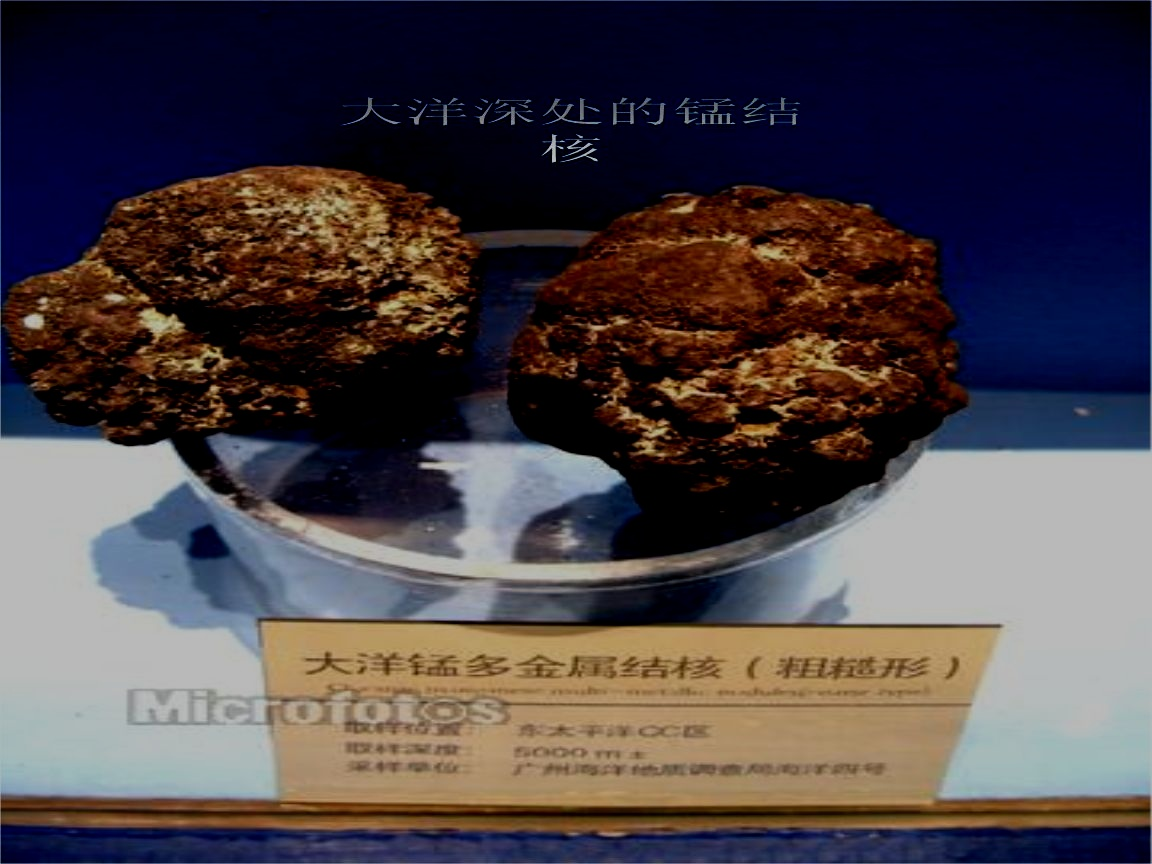halobolite: (507, 175, 969, 528), (8, 161, 493, 452)
